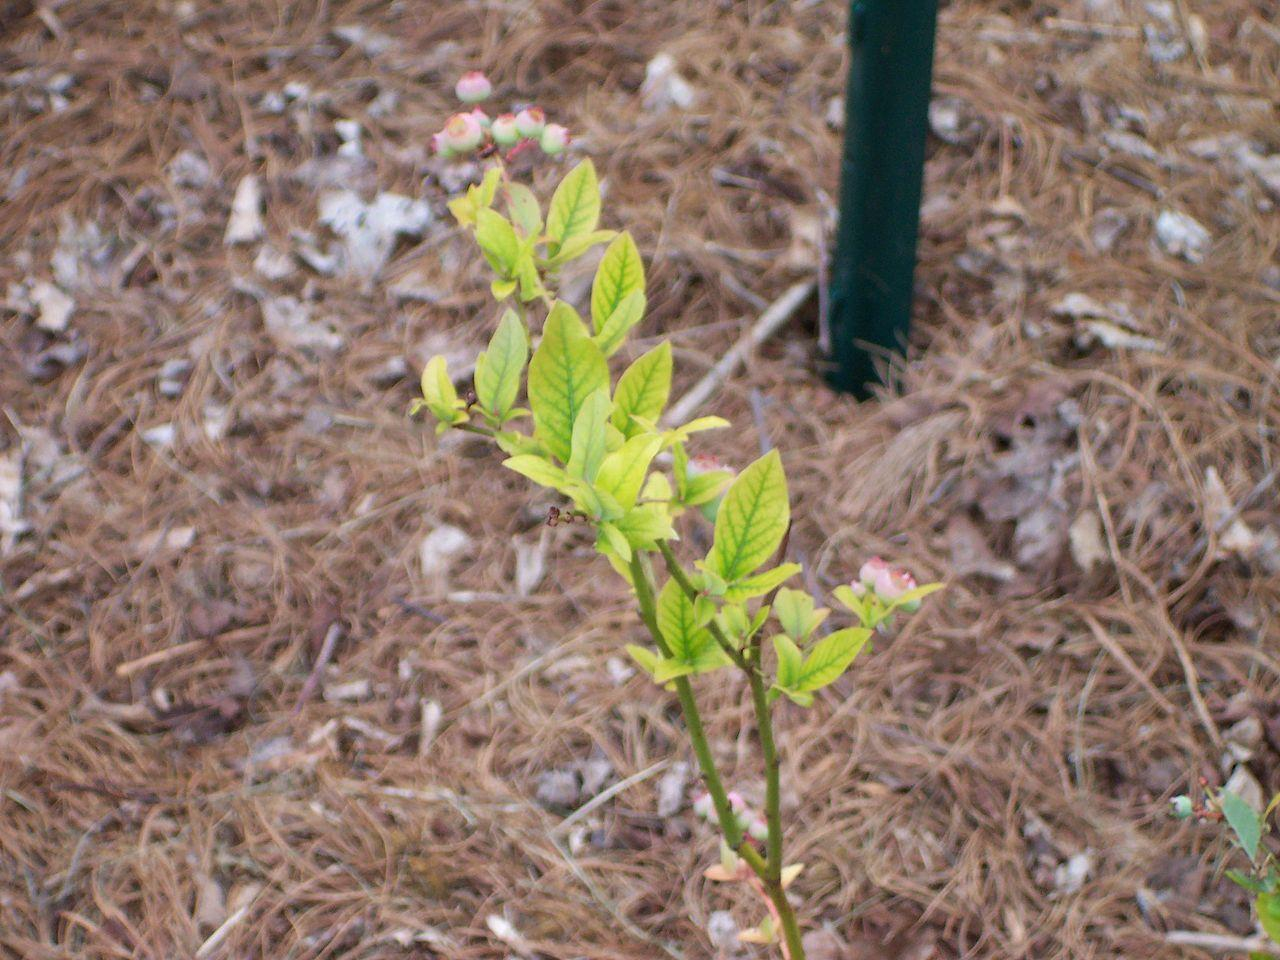Blueberry leaf: (710, 413, 802, 611), (529, 294, 618, 485), (461, 293, 552, 434), (578, 230, 660, 367), (657, 564, 739, 692), (619, 328, 687, 476), (535, 141, 600, 293)
